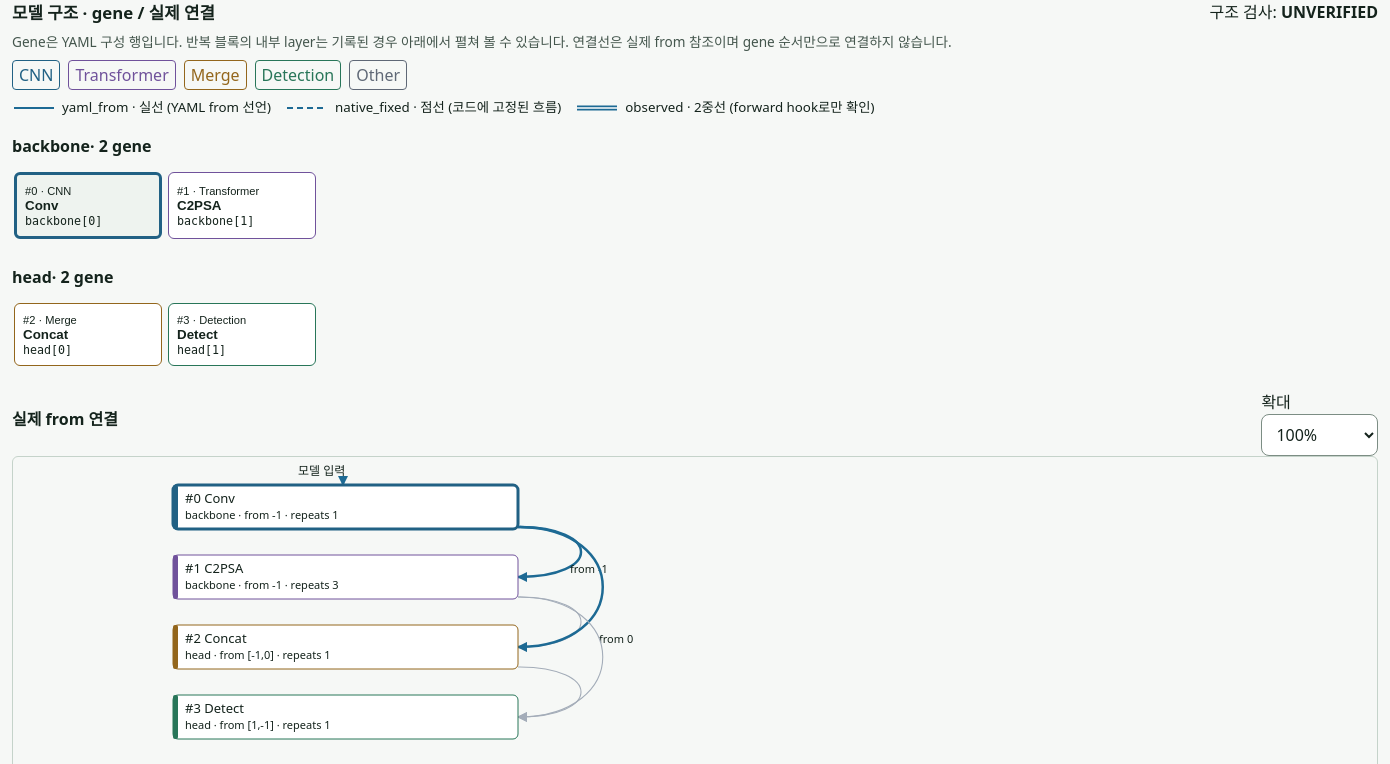
Test: recorded model structure › labels operator classes and synchronizes selected gene with block details
The width and height of the screenshot is (1390, 764).
Check: the text with test id "structure-status" reads "UNVERIFIED", box x1=1281 y1=1 x2=1378 y2=23
Click the button with test id "gene-1" at (242, 206), box x1=168 y1=172 x2=316 y2=239
(page scrolled)
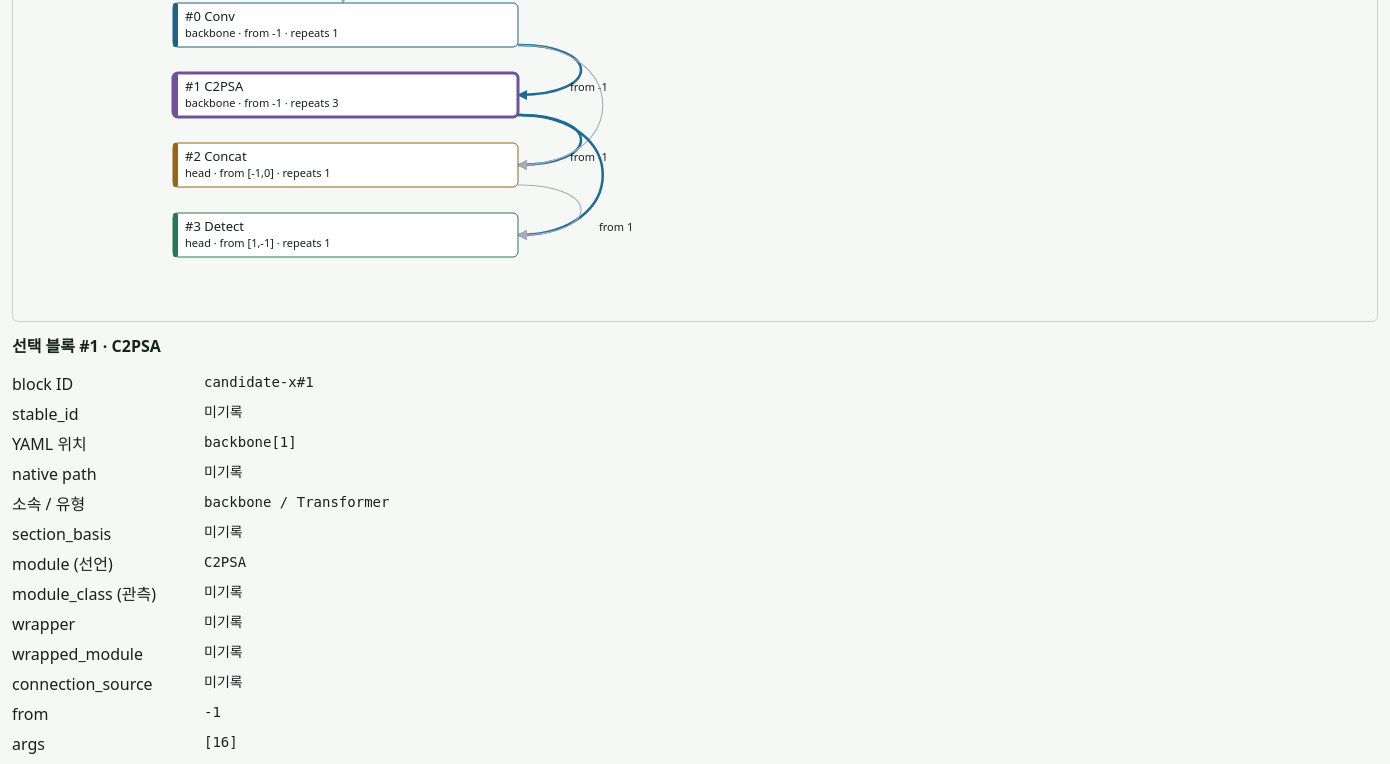
Check: the text "candidate-x#1" is shown, box x1=204 y1=374 x2=314 y2=390
